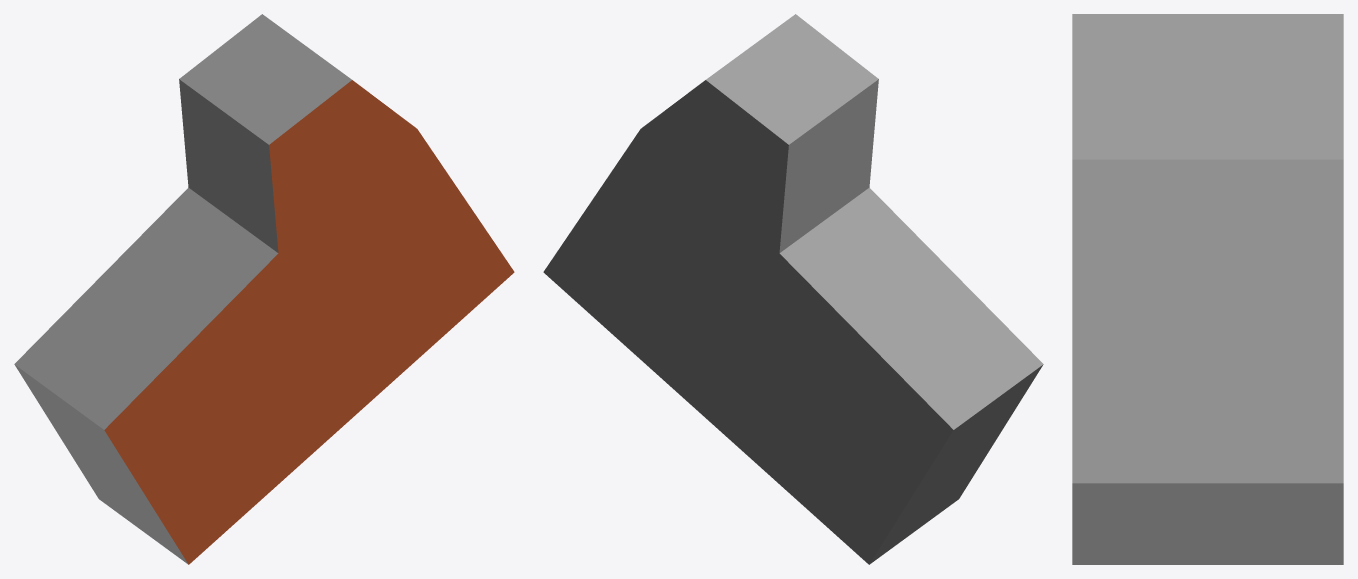
The model's file is construction_4986_assumed_A_Casa_h6m.obj.
3 views of the same model, side by side, from view 1: azimuth 30°, elevation 25°; view 2: azimuth 150°, elevation 25°; view 3: azimuth 270°, elevation 25° (orthographic). The views are drawn at different scales.
Parts seen in each view (by area): view 1: construction_4986_assumed_A_Casa; view 2: construction_4986_assumed_A_Casa; view 3: construction_4986_assumed_A_Casa.
Boxes of the visible parts, <box> form: construction_4986_assumed_A_Casa: <box>14,14,514,564</box>; construction_4986_assumed_A_Casa: <box>543,14,1043,564</box>; construction_4986_assumed_A_Casa: <box>1072,14,1343,564</box>.
Size of the model in its own units: 15.8 by 16.38 by 6.
